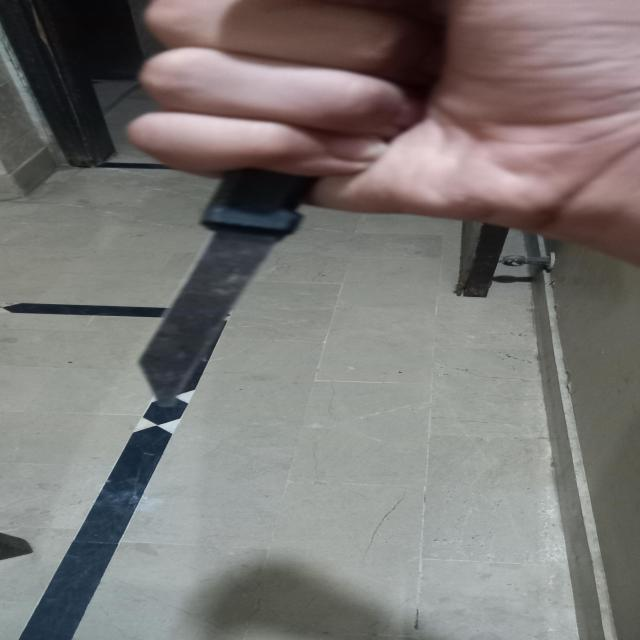Knife: (137, 172, 316, 406)
Person: (132, 0, 640, 266)
